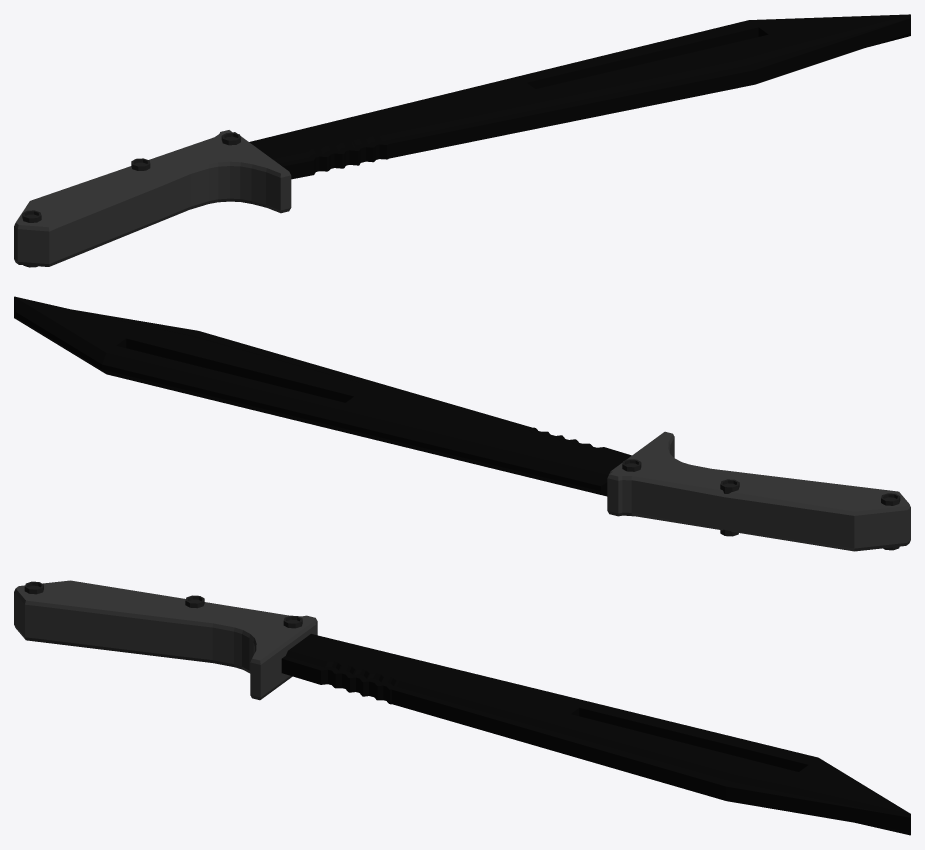
File: machete_01.fbx
3 views of the same model, one above another, from view 1: azimuth 30°, elevation 25°; view 2: azimuth 150°, elevation 25°; view 3: azimuth 330°, elevation 25° (orthographic).
Visible parts, largest first — view 1: Blade.007, Knife_03; view 2: Blade.007, Knife_03; view 3: Blade.007, Knife_03.
Boxes of the visible parts, box(x1,y1,x2,y2) form: Blade.007: box(249, 14, 910, 179); Knife_03: box(14, 130, 291, 267); Blade.007: box(14, 296, 631, 496); Knife_03: box(607, 431, 910, 551); Blade.007: box(281, 634, 910, 835); Knife_03: box(14, 580, 317, 700).
Bounding box in the file's own units: 798 × 41.79 × 91.37.
